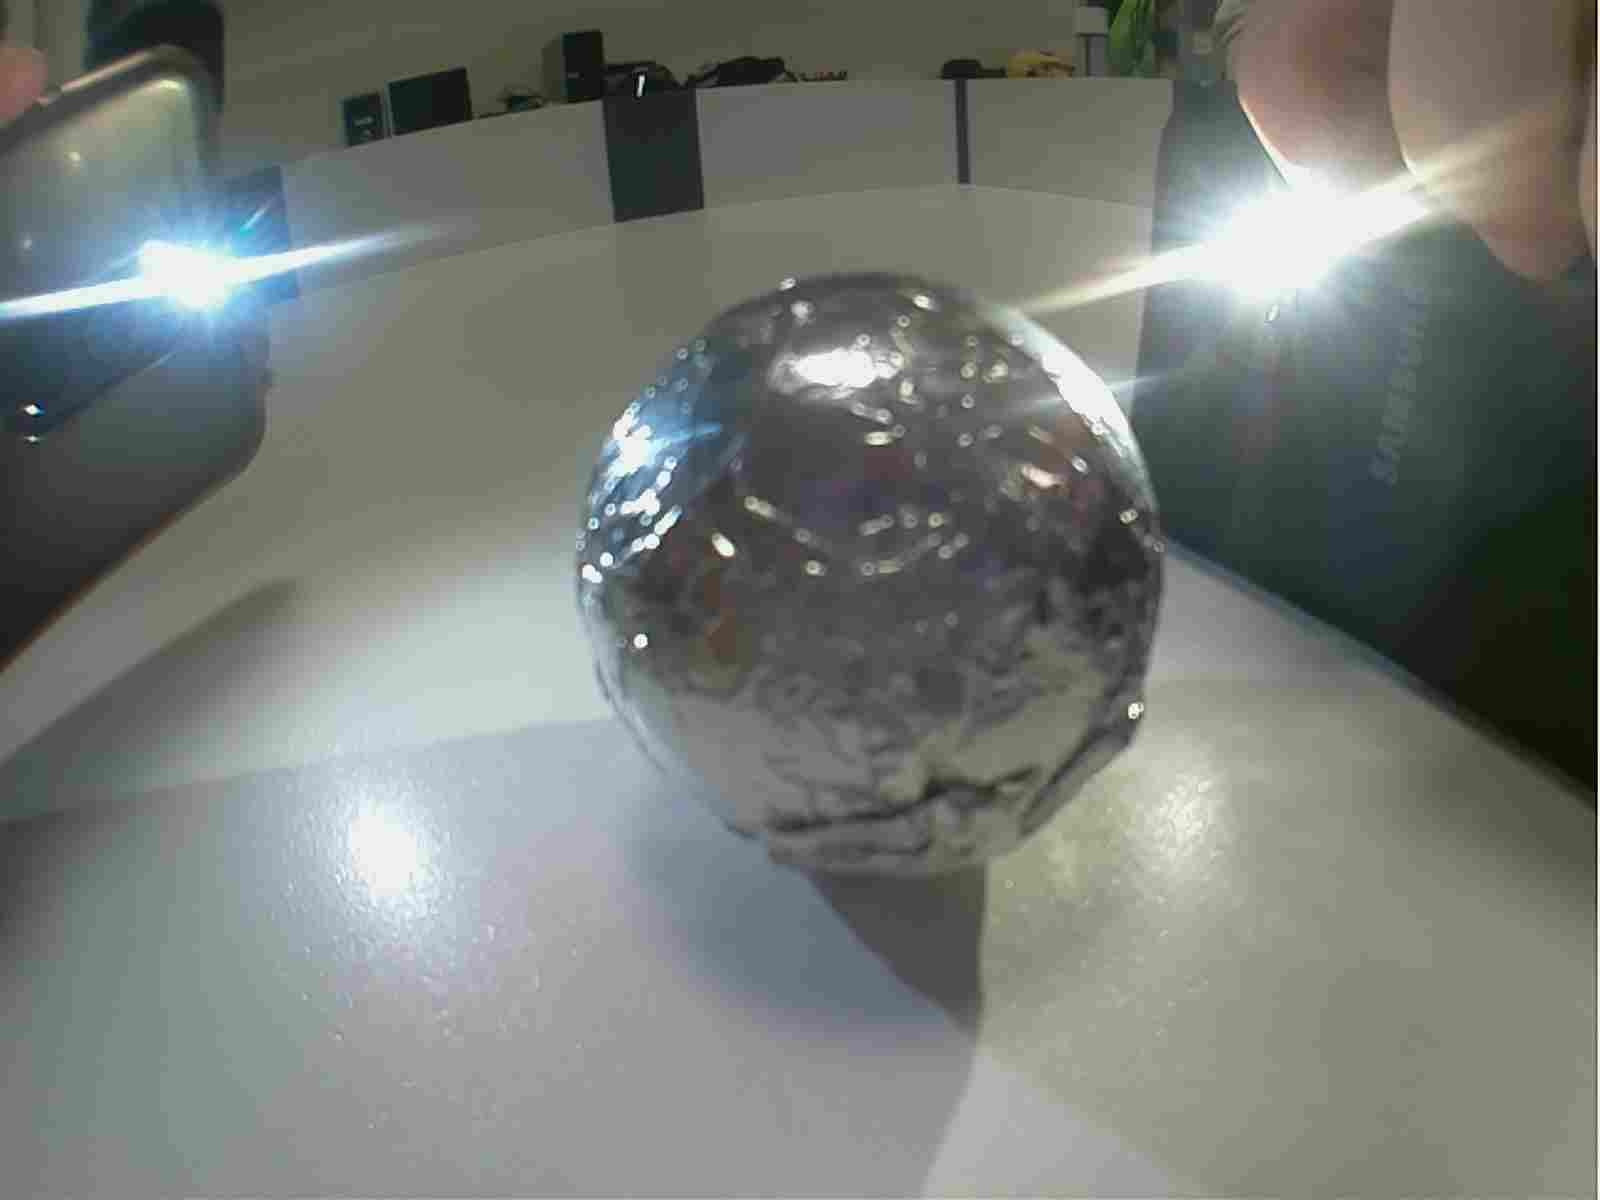bianca: (567, 266, 1173, 884)
